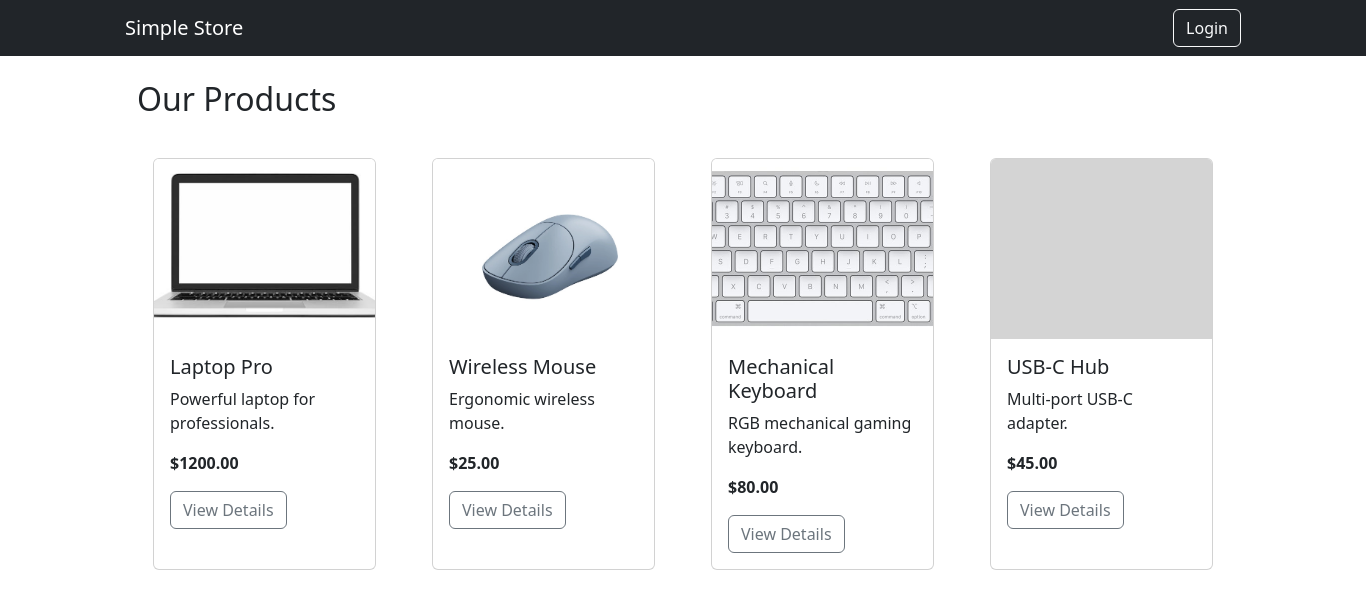
Product E2E Tests › should open product details
What coordinates should you click on to do the following:
click the button "View Details" below "1200.00"
I would click on:
 (229, 510)
Its box is [170, 491, 287, 529].
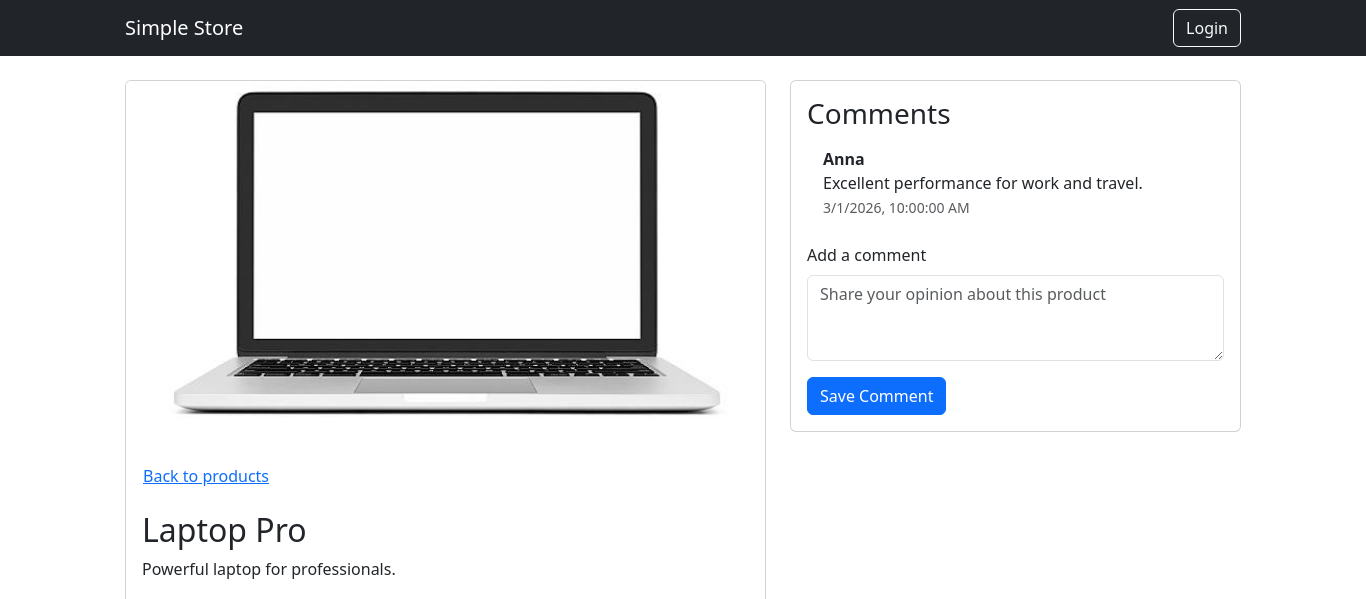
Check: the heading "Laptop Pro" is shown, box [142, 508, 307, 551]
Check: the heading "Comments" is shown, box [807, 94, 951, 132]
